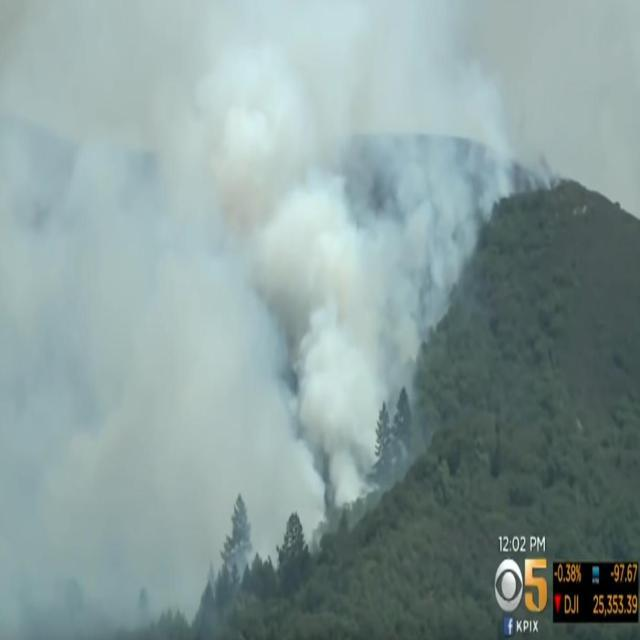Smoke: (0, 0, 526, 203), (0, 201, 223, 640), (230, 205, 388, 529), (389, 214, 456, 326)
